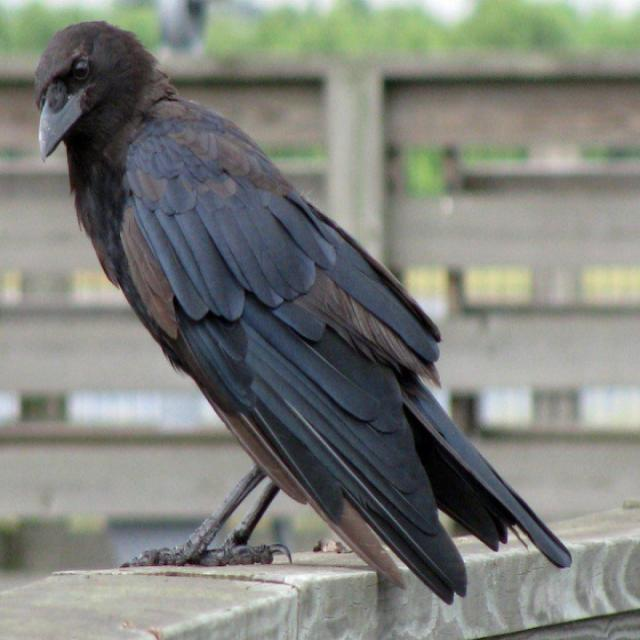crow: (37, 27, 235, 294)
